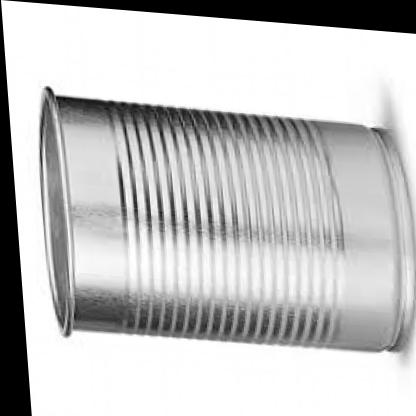Metal: (12, 60, 416, 384)
